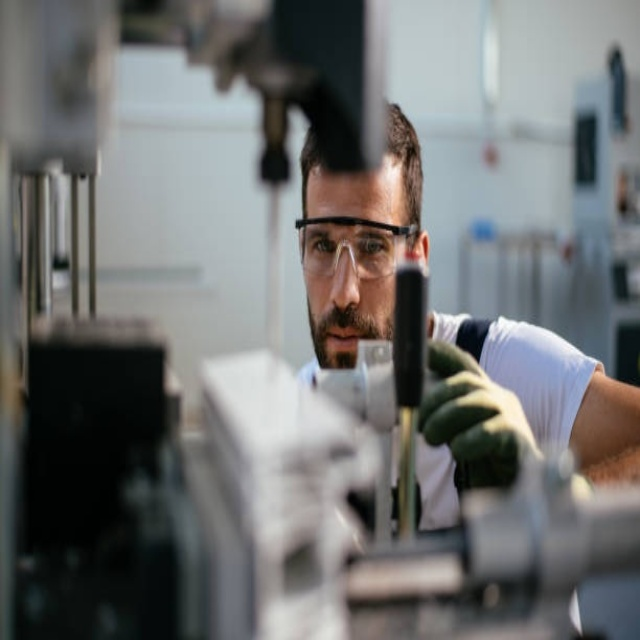Gafas: (295, 219, 417, 280)
Guantes: (417, 337, 541, 491)
Sin_mascara: (319, 312, 358, 369)
